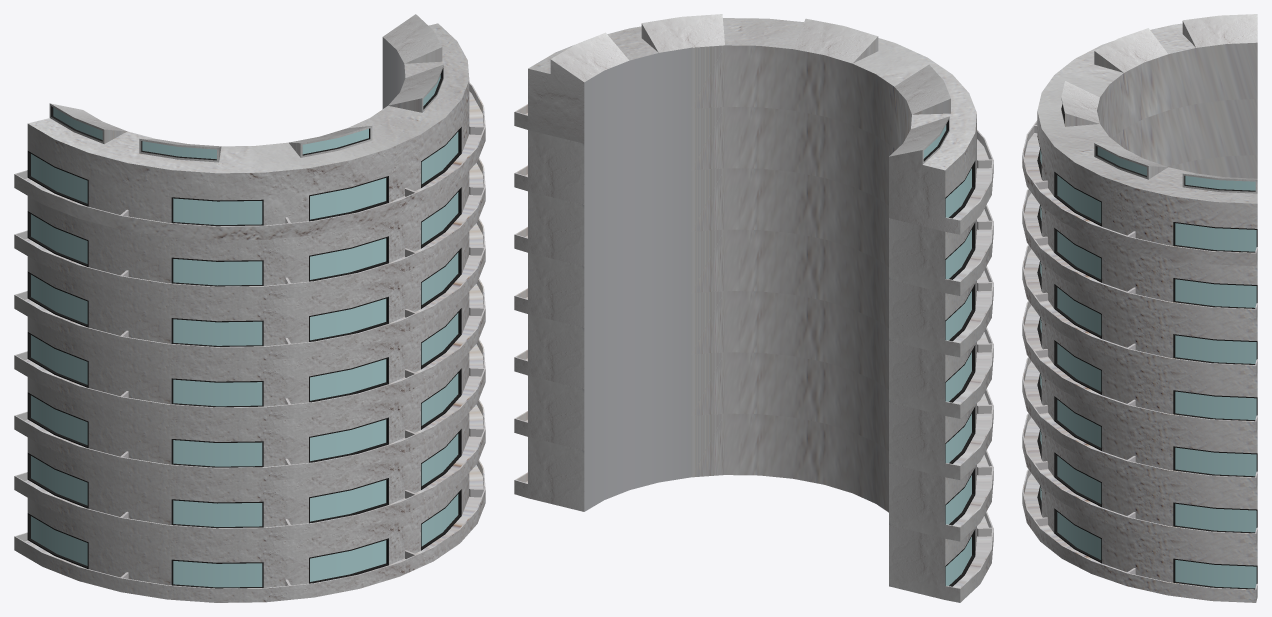
Rendered from half_circle_flat.fbx.
3 renders of one model, left to right at view 1: azimuth 30°, elevation 25°; view 2: azimuth 150°, elevation 25°; view 3: azimuth 270°, elevation 25°, orthographic. The views are drawn at different scales.
Parts seen in each view (by area): view 1: Cylinder.002; view 2: Cylinder.002; view 3: Cylinder.002.
Boxes of the visible parts, <box> form: Cylinder.002: <box>14,14,485,602</box>; Cylinder.002: <box>514,14,993,602</box>; Cylinder.002: <box>1022,14,1257,602</box>.
Bounding box in the file's own units: 11991 × 11427 × 5997.
3 materials, 1 textured.
